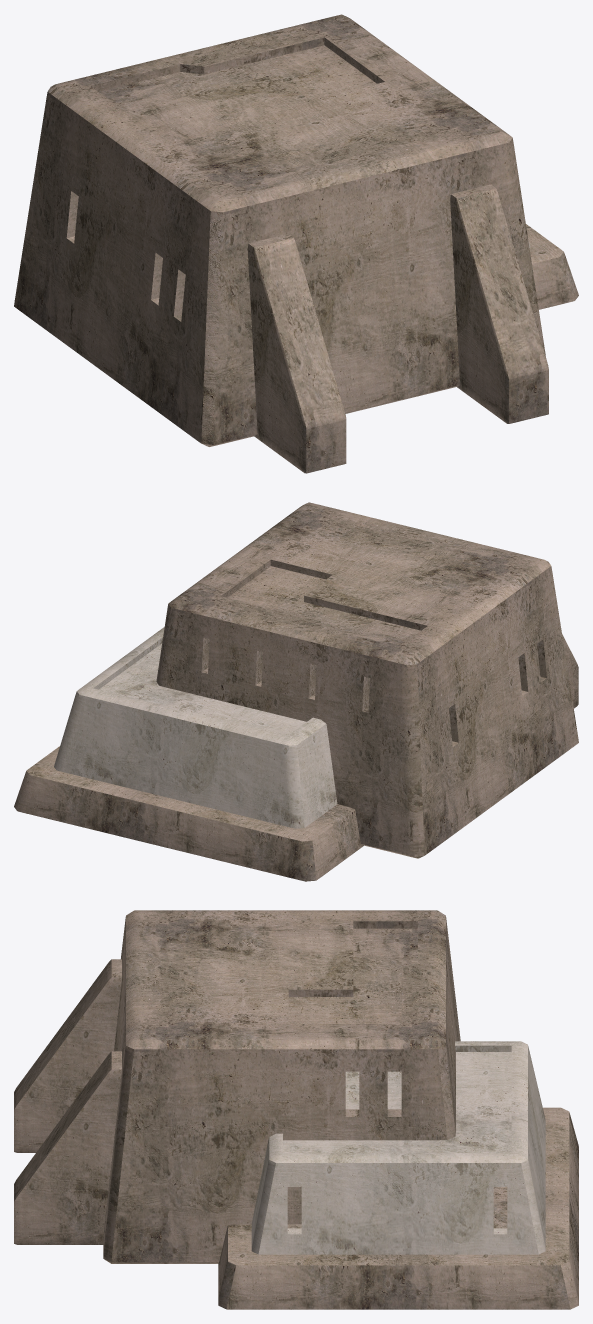
Rendered from mosesly14.fbx.
3 renders of one model, top to bottom at view 1: azimuth 30°, elevation 25°; view 2: azimuth 150°, elevation 25°; view 3: azimuth 270°, elevation 25°, orthographic. The views are drawn at different scales.
Parts seen in each view (by area): view 1: Rectangle0, Line02, Line01, Rectangle1; view 2: Rectangle0, Rectangle2, Rectangle1, Line02; view 3: Rectangle0, Rectangle2, Rectangle1, Line01, Line02.
Part boxes in pixels (left/top/right/bottom): Rectangle0: left=14, top=14, right=545, bottom=446; Line02: left=247, top=234, right=346, bottom=473; Line01: left=450, top=184, right=548, bottom=423; Rectangle1: left=526, top=224, right=578, bottom=309; Rectangle0: left=156, top=502, right=578, bottom=858; Rectangle2: left=54, top=627, right=337, bottom=828; Rectangle1: left=14, top=746, right=363, bottom=881; Line02: left=562, top=634, right=578, bottom=708; Rectangle0: left=103, top=910, right=460, bottom=1263; Rectangle2: left=251, top=1041, right=545, bottom=1254; Rectangle1: left=218, top=1107, right=578, bottom=1309; Line01: left=14, top=1051, right=121, bottom=1244; Line02: left=14, top=959, right=121, bottom=1152.
Size of what is drawn, in the model's own units: 3884 by 1939 by 4643.
